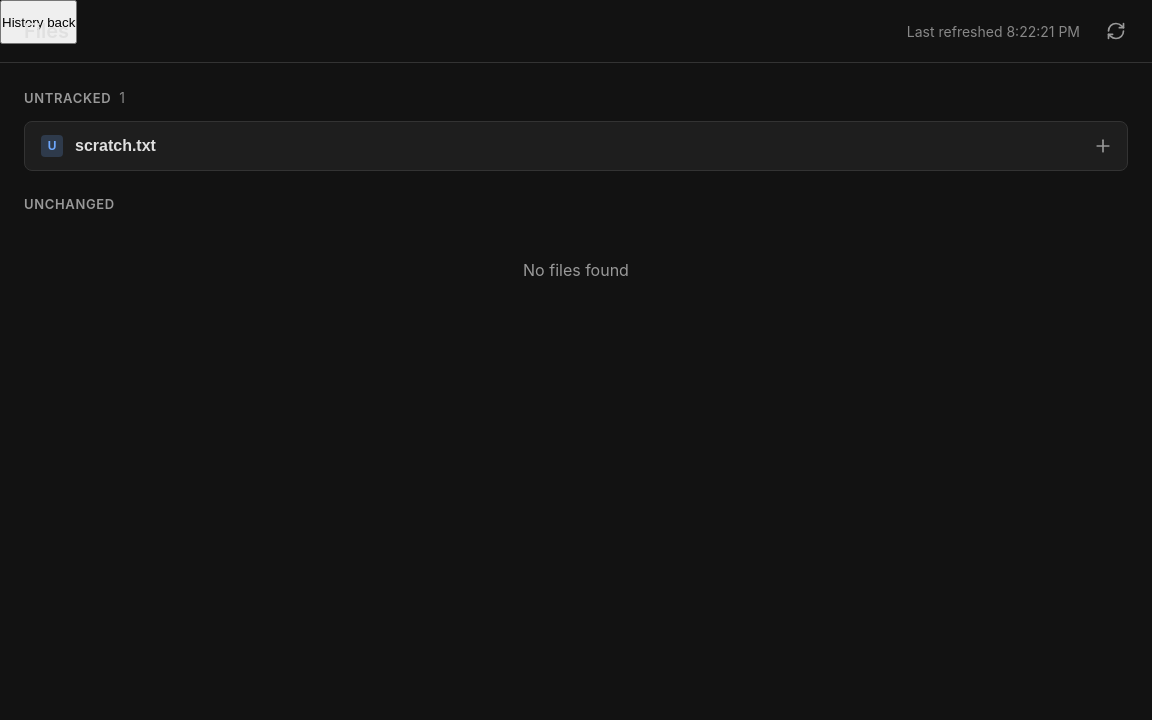
Test: FilesPage › opens an untracked file in the editor with every line added
The width and height of the screenshot is (1152, 720).
Click the button with class "changes-file-entry". click: (115, 145)
box: [25, 122, 1079, 170]
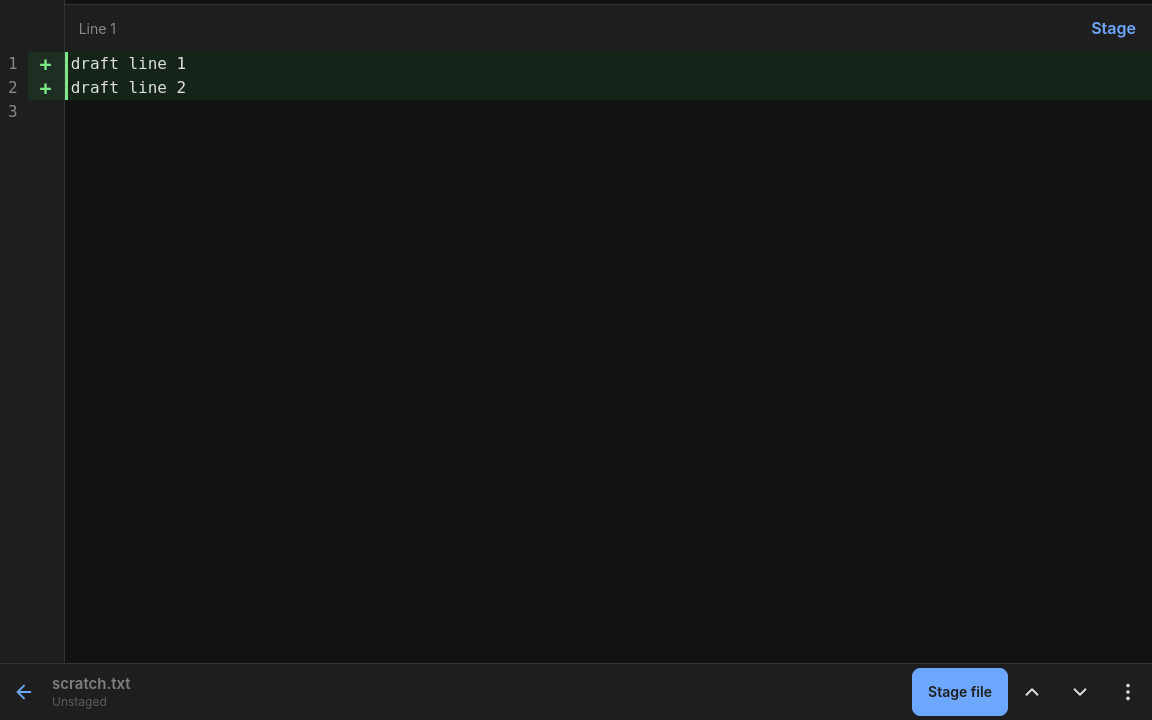
Expected: the button "Stage file" is shown, [912, 668, 1008, 716]
Expected: the number of text boxes with class "cm-changedLine--added" is 2, [65, 52, 1151, 76]; [65, 76, 1151, 100]
